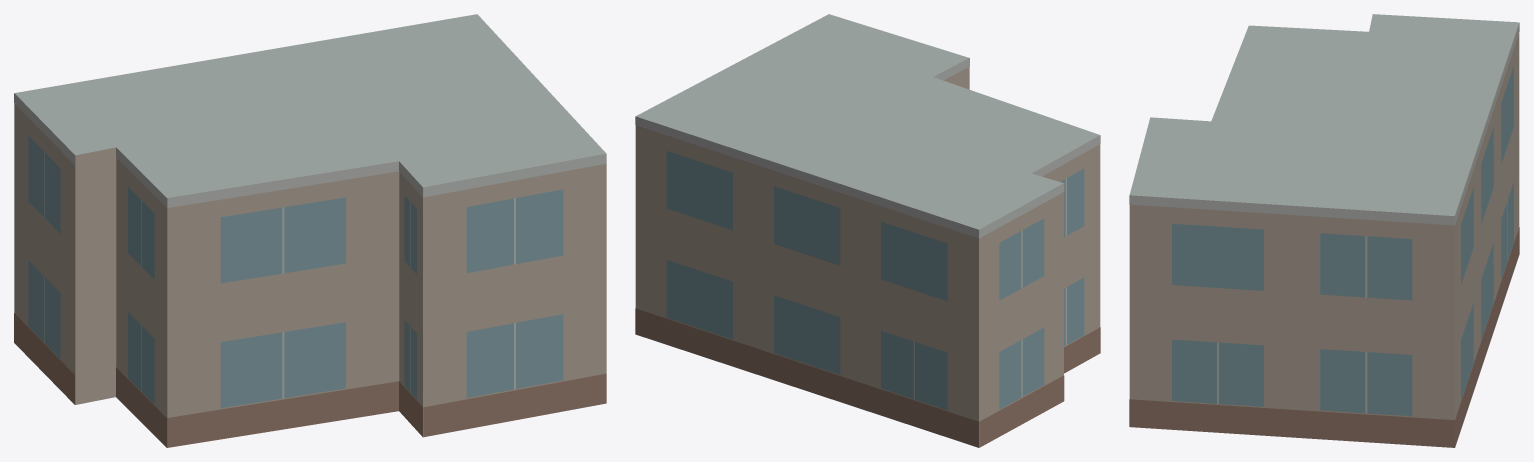
The model's file is survey-upis-32905870.glb.
The picture shows the model from 3 angles, left to right: view 1: azimuth 30°, elevation 25°; view 2: azimuth 150°, elevation 25°; view 3: azimuth 270°, elevation 25°; orthographic projection. The views are drawn at different scales.
Parts seen in each view (by area): view 1: survey-upis-32905870.tmp; view 2: survey-upis-32905870.tmp; view 3: survey-upis-32905870.tmp.
Boxes of the visible parts, x1,y1,x2,y2 form: survey-upis-32905870.tmp: [14, 14, 606, 447]; survey-upis-32905870.tmp: [635, 14, 1100, 447]; survey-upis-32905870.tmp: [1129, 14, 1519, 447].
Size of the model in its own units: 11.43 by 6.1 by 9.32.
